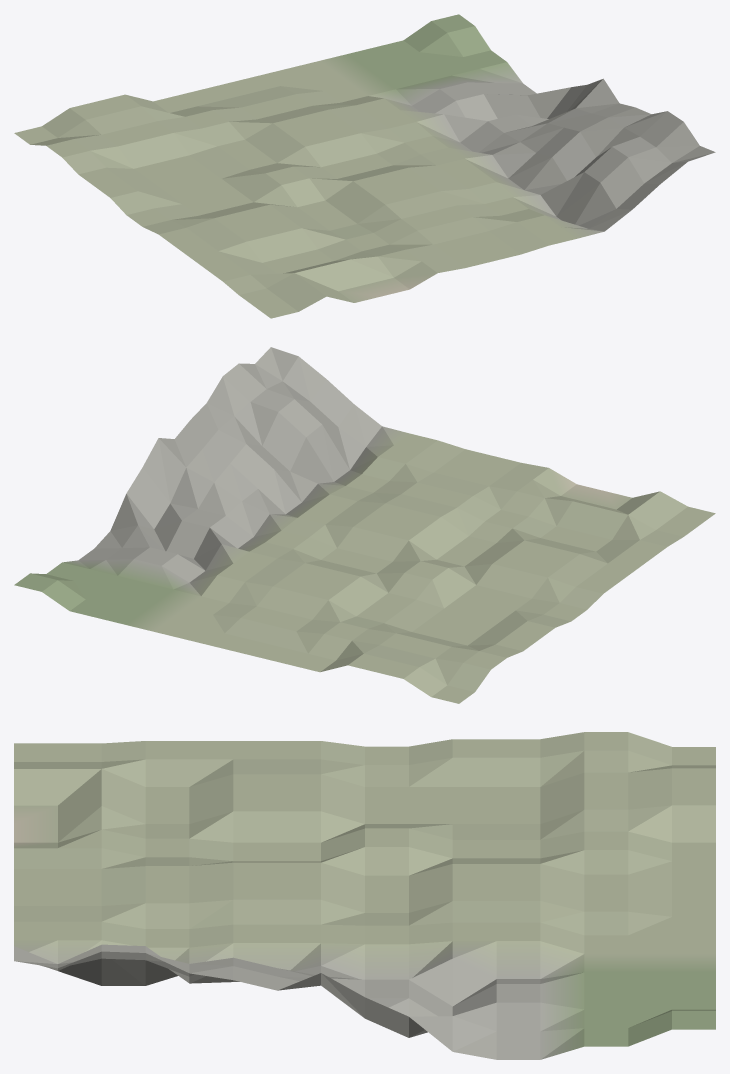
3 renders of one model, top to bottom at view 1: azimuth 30°, elevation 25°; view 2: azimuth 150°, elevation 25°; view 3: azimuth 270°, elevation 25°, orthographic. The views are drawn at different scales.
Size of the model in its own units: 32 by 5.57 by 32.
